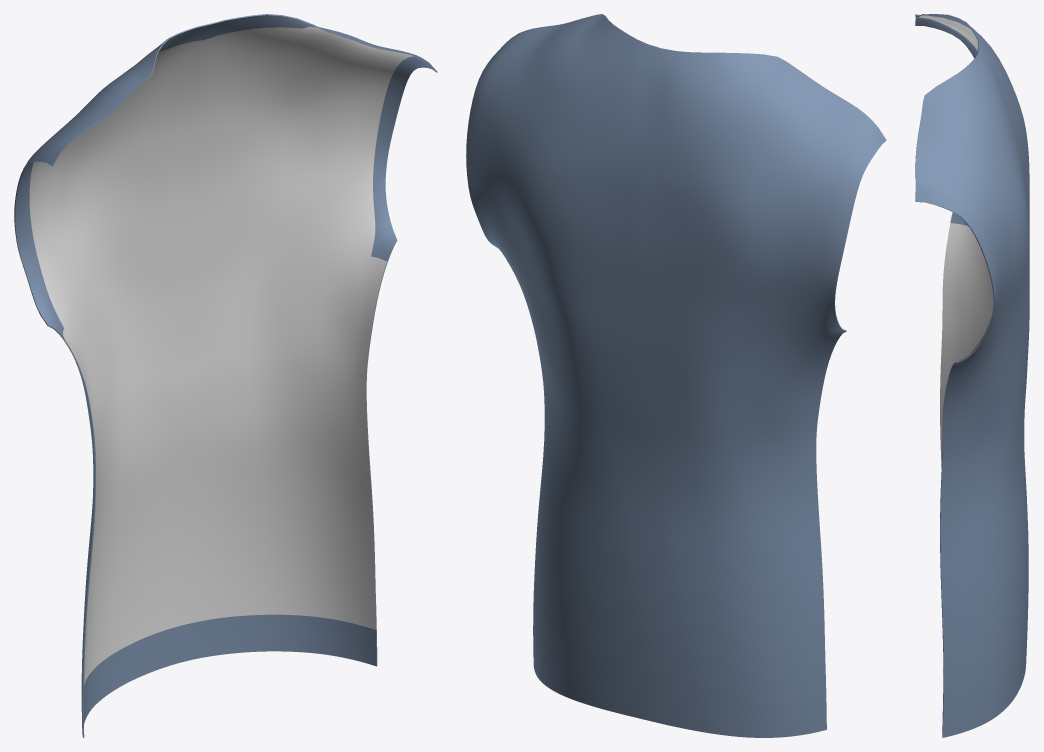
The model's file is SM_CarlosSA_Jacket_BackVent_None.fbx.
3 views of the same model, side by side, from view 1: azimuth 30°, elevation 25°; view 2: azimuth 150°, elevation 25°; view 3: azimuth 270°, elevation 25° (orthographic). The views are drawn at different scales.
Visible parts, largest first — view 1: SM_CarlosSA_Jacket_BackVent_None; view 2: SM_CarlosSA_Jacket_BackVent_None; view 3: SM_CarlosSA_Jacket_BackVent_None.
Part boxes in pixels (left/top/right/bottom): SM_CarlosSA_Jacket_BackVent_None: left=14, top=14, right=437, bottom=737; SM_CarlosSA_Jacket_BackVent_None: left=466, top=14, right=886, bottom=737; SM_CarlosSA_Jacket_BackVent_None: left=915, top=14, right=1029, bottom=737.
Bounding box in the file's own units: 0.454 × 0.746 × 0.1238.
